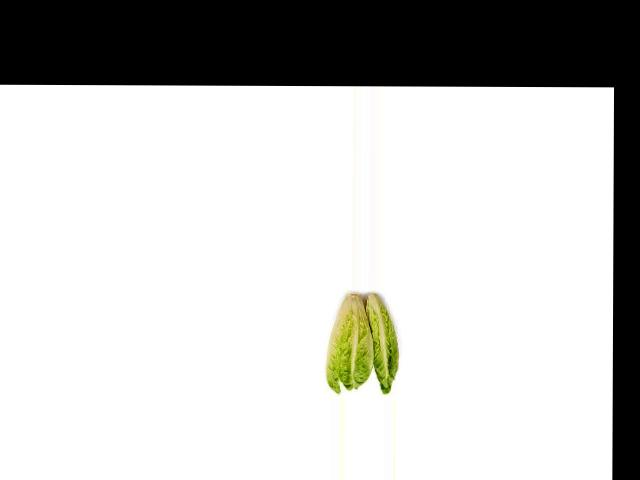lettuce: (363, 287, 409, 395)
